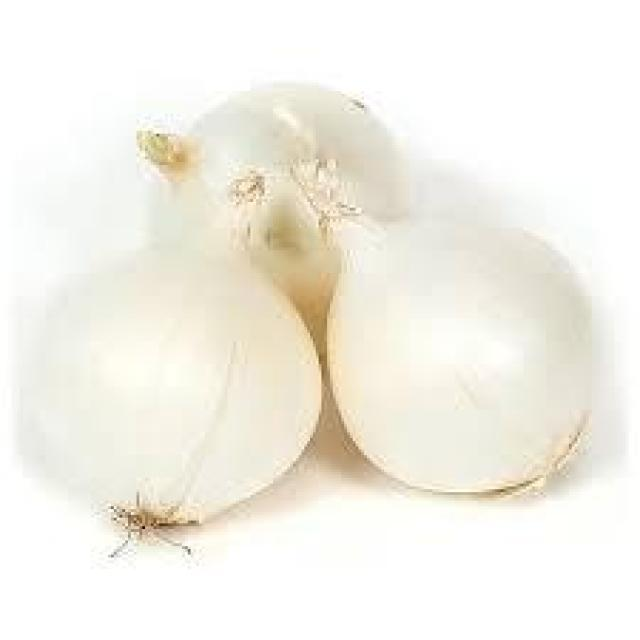Onion: (0, 115, 321, 541), (297, 136, 596, 506), (121, 74, 428, 321)
